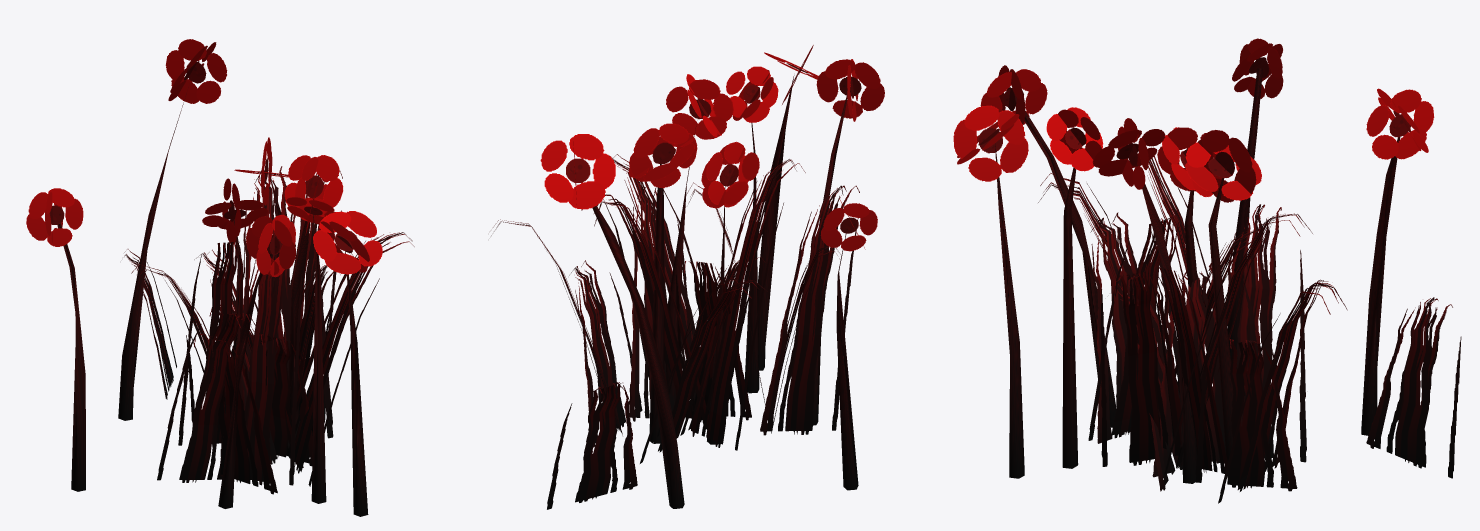
File: plant_forest_wildflower_a_lod2.glb
The picture shows the model from 3 angles, left to right: view 1: azimuth 30°, elevation 25°; view 2: azimuth 150°, elevation 25°; view 3: azimuth 270°, elevation 25°; orthographic projection. The views are drawn at different scales.
Visible parts, largest first — view 1: plant_forest_wildflower_a; view 2: plant_forest_wildflower_a; view 3: plant_forest_wildflower_a.
Boxes of the visible parts, bbox=[...] form: plant_forest_wildflower_a: bbox=[26, 39, 414, 516]; plant_forest_wildflower_a: bbox=[491, 45, 884, 509]; plant_forest_wildflower_a: bbox=[953, 38, 1461, 503].
Size of the model in its own units: 0.3318 by 0.3264 by 0.3692.
Materials: 1 (1 with a texture image).
